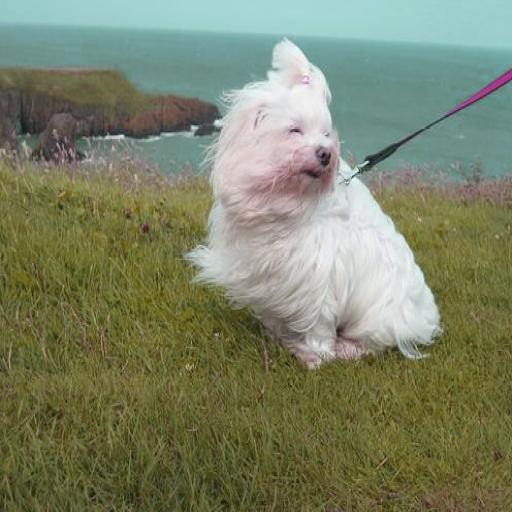dog_face: (215, 50, 338, 202)
